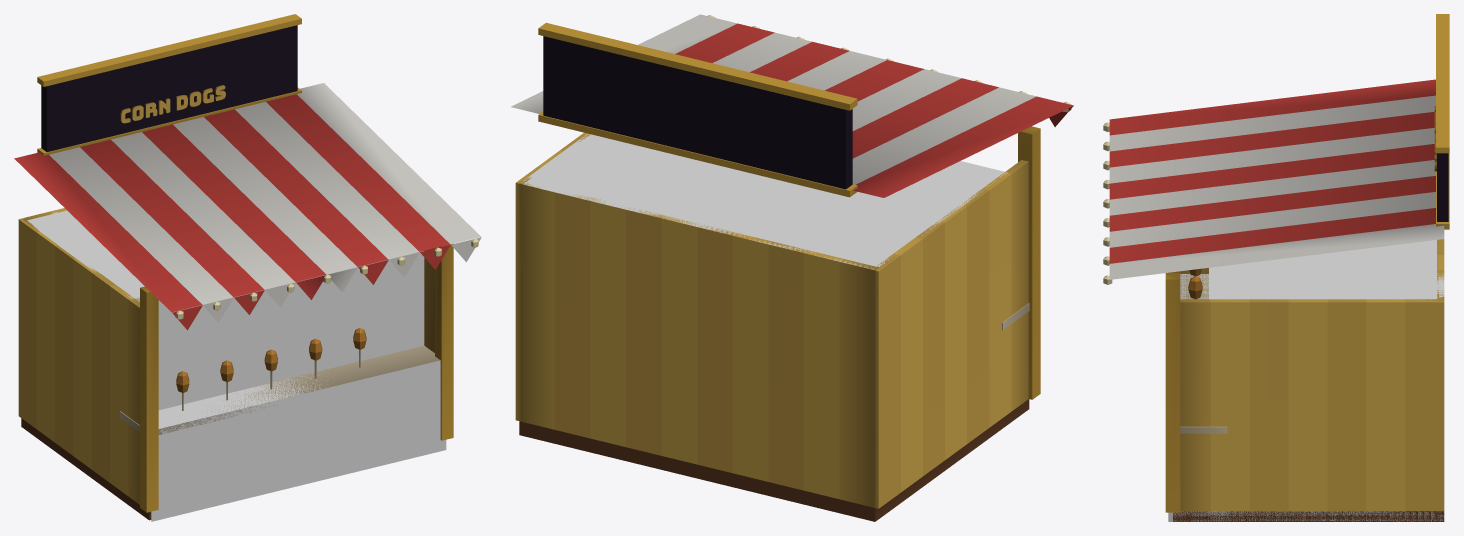
The model's file is c_stall_food.glb.
3 views of the same model, side by side, from view 1: azimuth 30°, elevation 25°; view 2: azimuth 150°, elevation 25°; view 3: azimuth 270°, elevation 25° (orthographic). The views are drawn at different scales.
Parts seen in each view (by area): view 1: c_stall_food, COL_1, COL_0; view 2: c_stall_food, COL_0; view 3: c_stall_food, COL_0, COL_1.
Part boxes in pixels (<box>): c_stall_food: <box>14,14,481,520</box>; COL_1: <box>151,360,446,521</box>; COL_0: <box>21,210,424,410</box>; c_stall_food: <box>511,14,1073,521</box>; COL_0: <box>522,134,1007,269</box>; c_stall_food: <box>1103,14,1449,521</box>; COL_0: <box>1209,240,1444,521</box>; COL_1: <box>1168,274,1227,521</box>.
Bounding box in the file's own units: 4.2 × 4.45 × 3.83.
